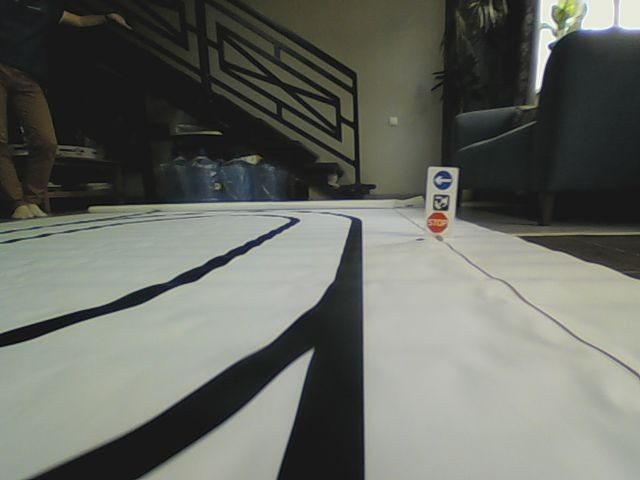Stop: (426, 211, 450, 236)
